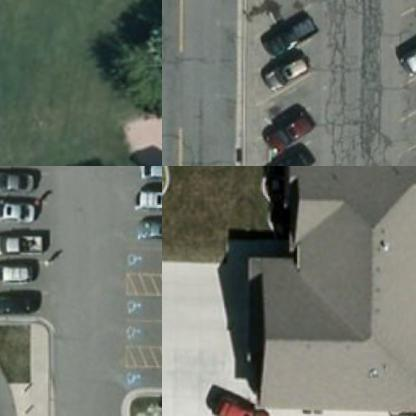car: (259, 6, 315, 50), (260, 106, 316, 147), (260, 48, 311, 88), (206, 392, 274, 415), (0, 249, 40, 286), (0, 280, 40, 317), (0, 222, 41, 257), (0, 189, 38, 226), (258, 141, 315, 165), (128, 177, 161, 212), (131, 209, 161, 244), (0, 166, 38, 191), (399, 18, 415, 76), (128, 166, 161, 183)
